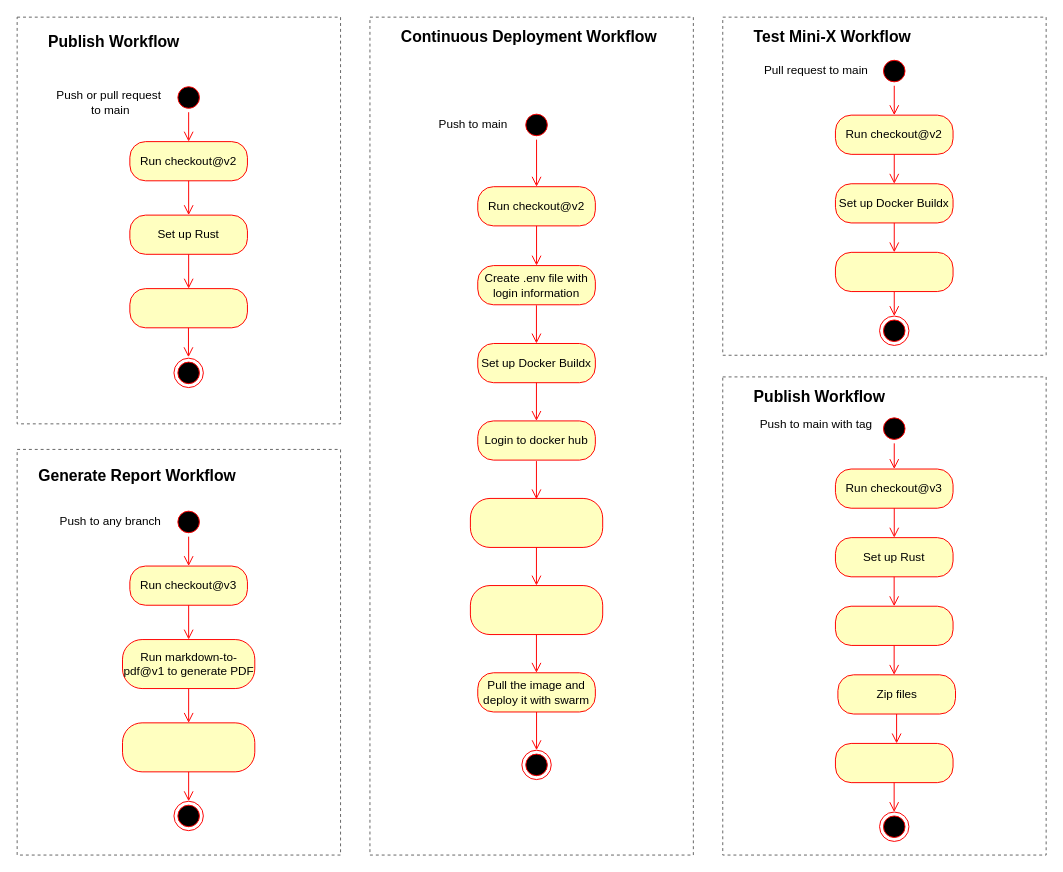
Some shapes in this 1063 by 872 pixel diagram are drawn without their labels. The centre of each missing label's shape, as x and y in pixels:
"Build our application" belongs at (893,625).
"Create docker image and push it to docker hub" belongs at (536,522).
"Publish Release" belongs at (893,762).
"Run git-auto-commit-action@v5 to commit new PDF" belongs at (188,747).
"Run rustfmt" belongs at (188,308).
"SSH into the manager node and update docker-compose" belongs at (536,610).
"Test minix with docker minixtestimage" belongs at (893,271).
